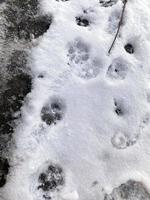chien: (67, 41, 91, 64)
